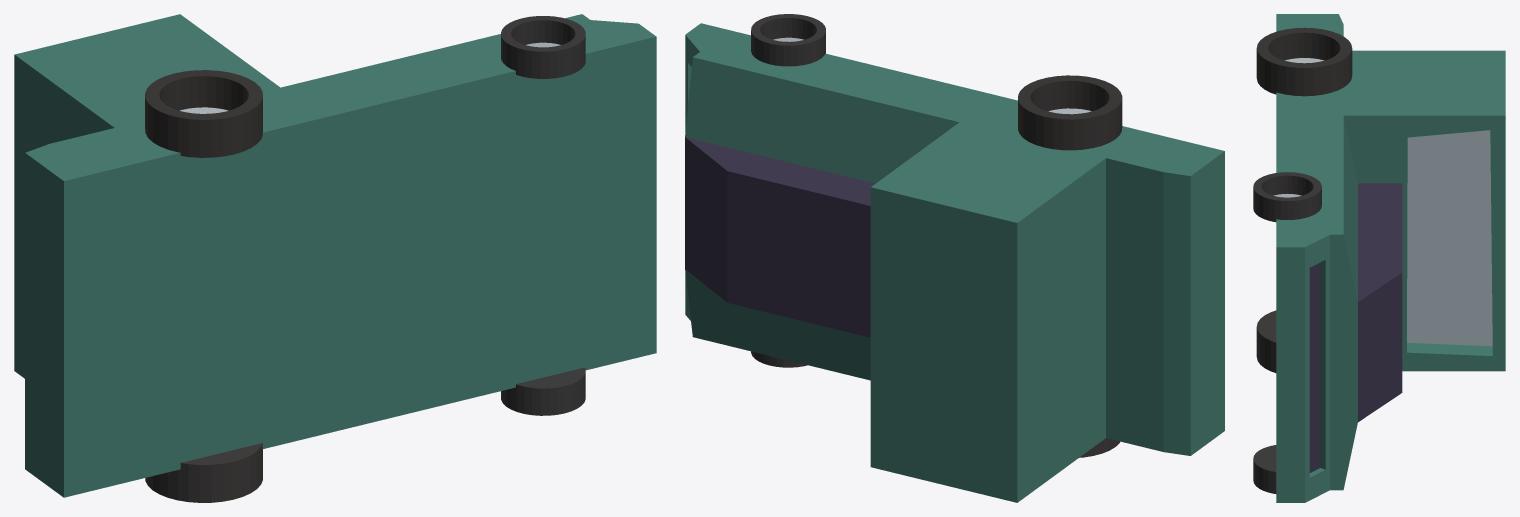
File: ivanCar4.fbx
3 renders of one model, left to right at view 1: azimuth 30°, elevation 25°; view 2: azimuth 150°, elevation 25°; view 3: azimuth 270°, elevation 25°, orthographic. The views are drawn at different scales.
Parts seen in each view (by area): view 1: Cube; view 2: Cube; view 3: Cube.
Part boxes in pixels (x1,y1,x2,y2): Cube: (14, 14, 656, 502); Cube: (685, 14, 1224, 502); Cube: (1253, 14, 1505, 502).
Bounding box in the file's own units: 1274 × 787 × 582.
